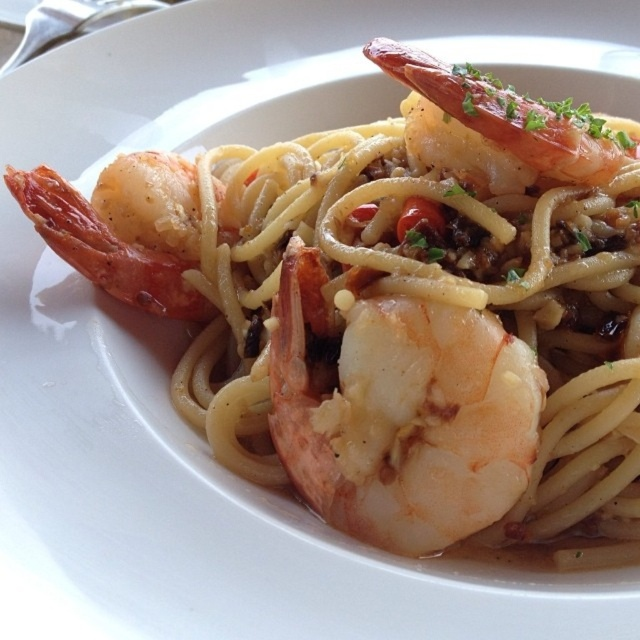Shrimp: (3, 37, 640, 556)
